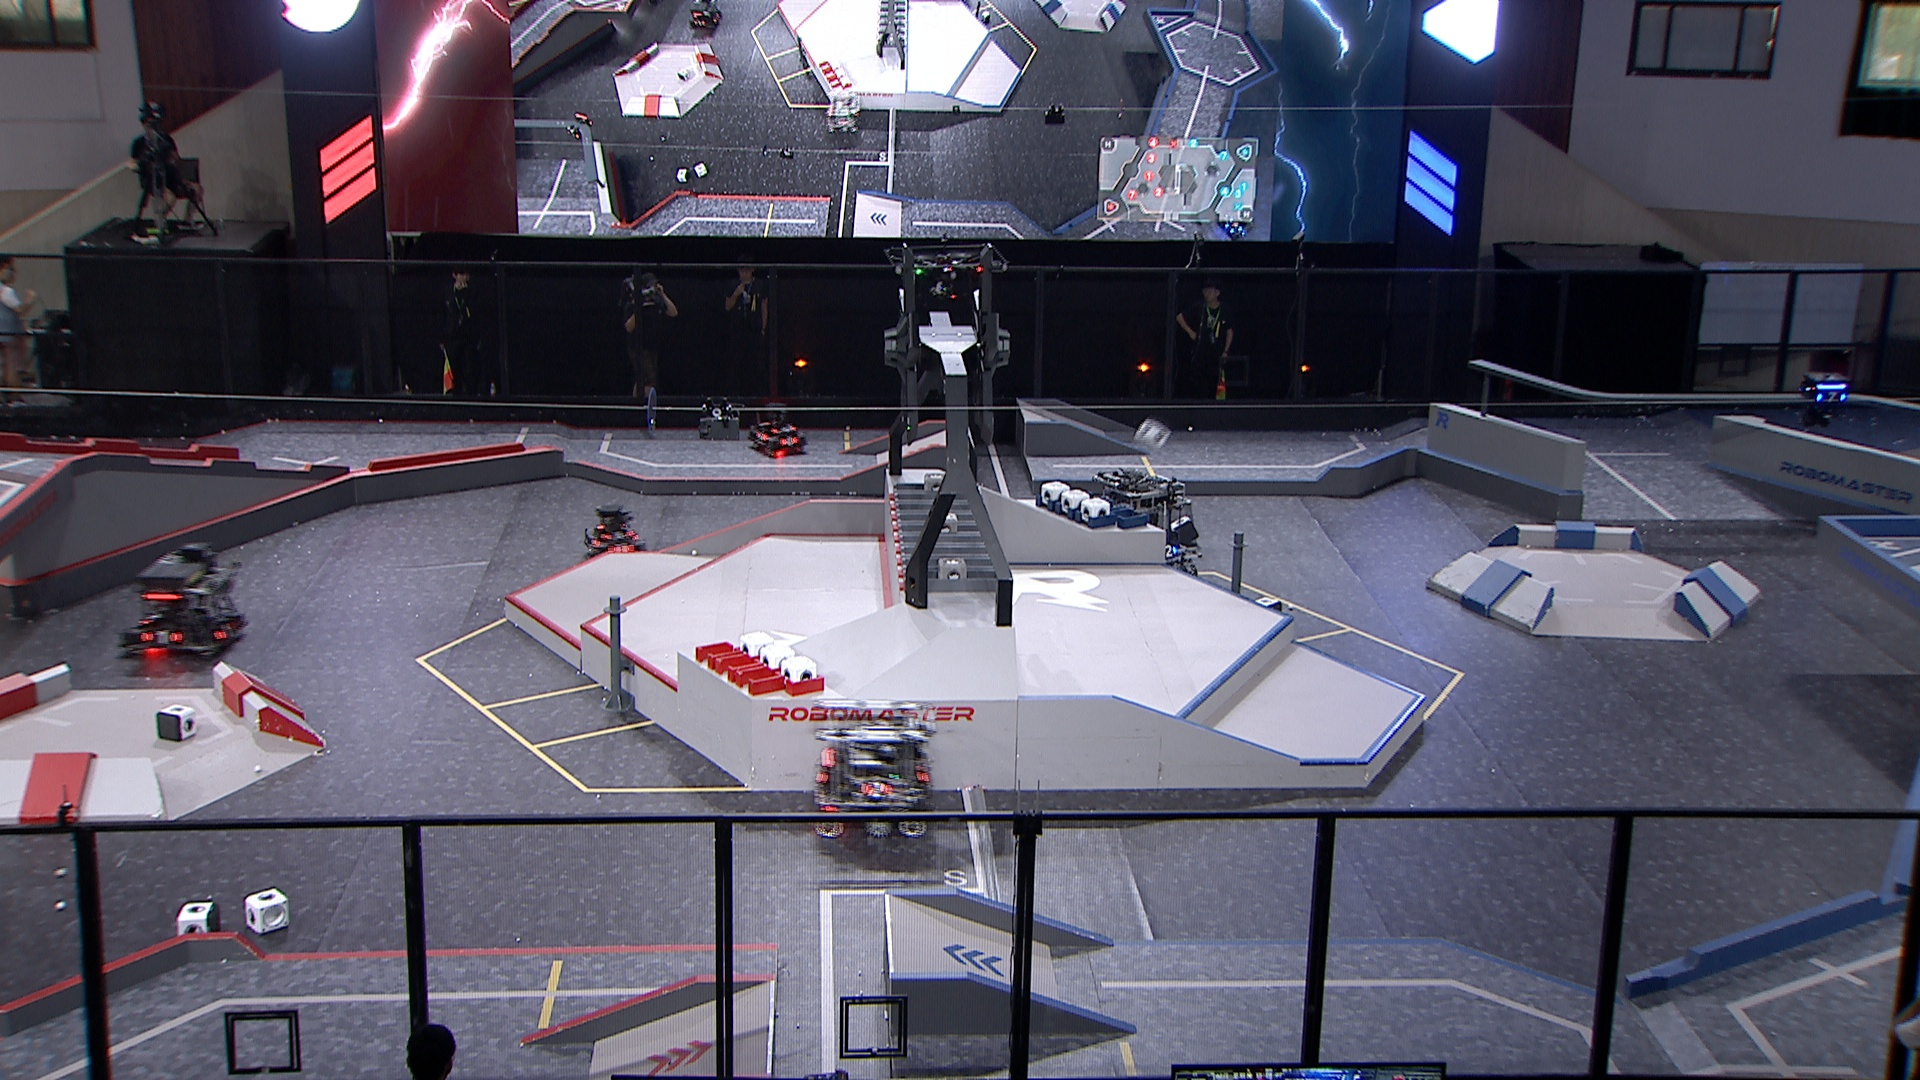armor: (138, 626, 183, 647), (208, 617, 240, 645), (1812, 386, 1850, 407), (864, 779, 893, 802), (136, 605, 164, 626), (1158, 541, 1182, 562), (603, 527, 636, 542), (609, 541, 636, 556), (752, 429, 769, 447), (779, 434, 800, 448), (771, 422, 794, 434)
car: (812, 717, 932, 837), (116, 551, 247, 659), (1092, 469, 1207, 589), (742, 400, 811, 458), (583, 500, 647, 559)
ignore: (822, 92, 865, 135), (684, 0, 723, 33), (564, 109, 593, 138)
watcher: (1797, 365, 1851, 433)
